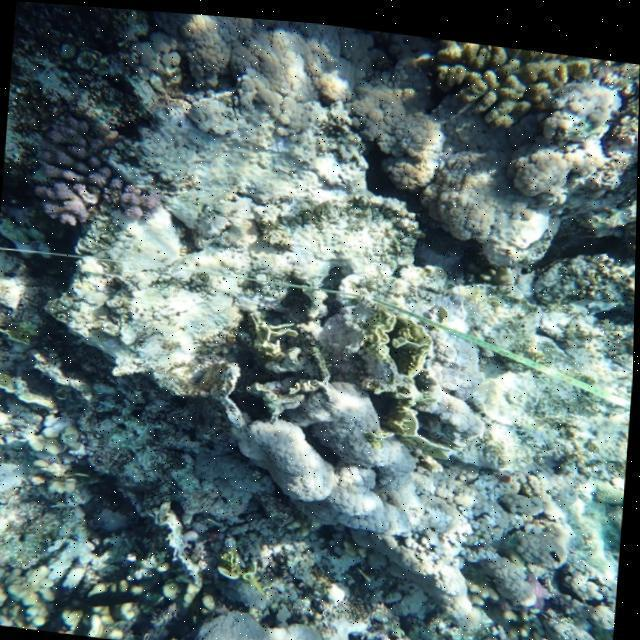Bleached Coral: (120, 8, 388, 236), (228, 369, 468, 562), (49, 221, 280, 403), (458, 48, 630, 258), (432, 449, 572, 629), (166, 537, 371, 640), (52, 520, 117, 618)
